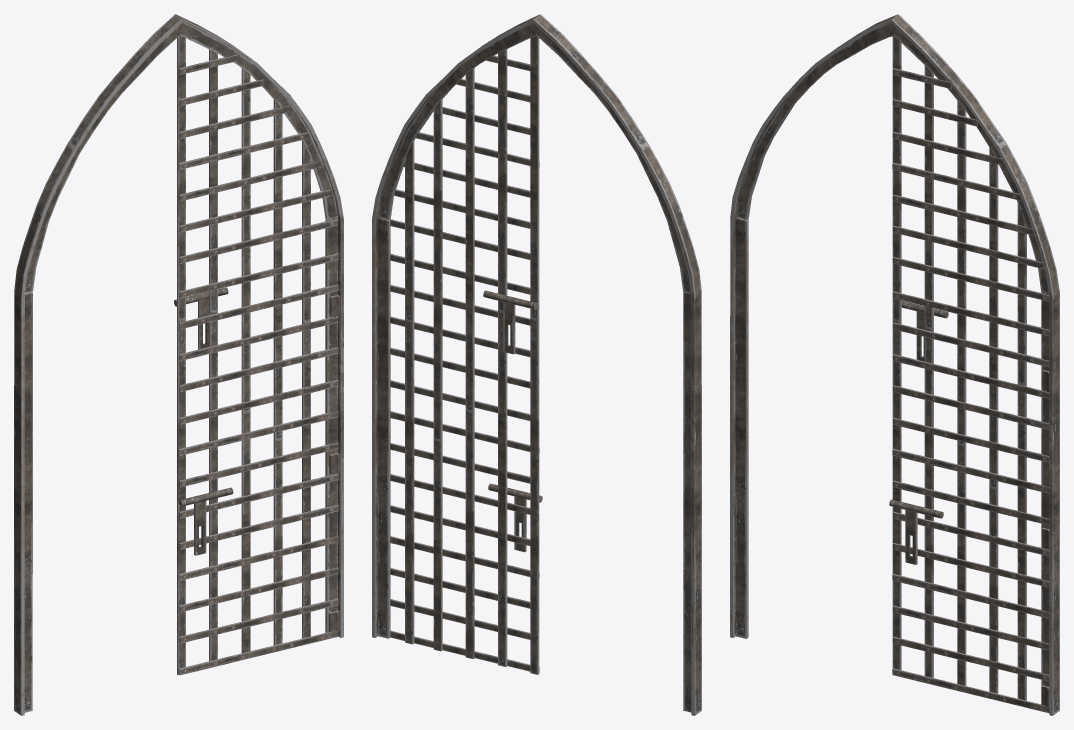
The model's file is SM_MetalGate01.FBX.
3 views of the same model, side by side, from view 1: azimuth 30°, elevation 25°; view 2: azimuth 150°, elevation 25°; view 3: azimuth 330°, elevation 25° (orthographic).
Visible parts, largest first — view 1: SM_MetalGate01; view 2: SM_MetalGate01; view 3: SM_MetalGate01.
Part boxes in pixels (box(x1,y1,x2,y2)): SM_MetalGate01: box(14, 14, 343, 715); SM_MetalGate01: box(372, 14, 701, 715); SM_MetalGate01: box(730, 14, 1059, 715).
Size of the model in its own units: 294 by 12.99 by 572.
